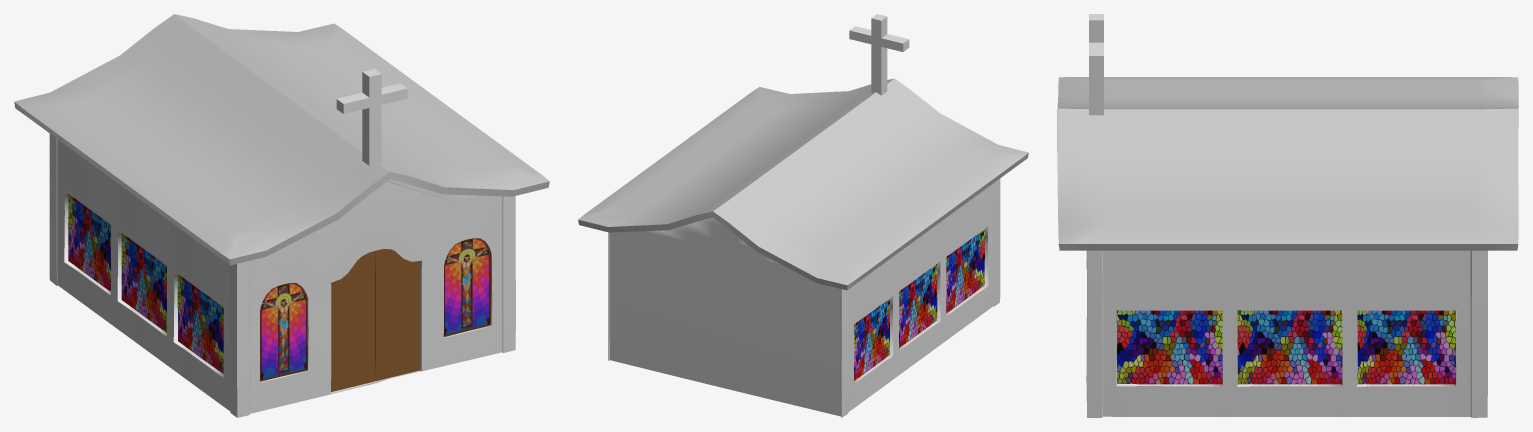
File: igreja.fbx
The picture shows the model from 3 angles, left to right: view 1: azimuth 30°, elevation 25°; view 2: azimuth 150°, elevation 25°; view 3: azimuth 270°, elevation 25°; orthographic projection. The views are drawn at different scales.
Visible parts, largest first — view 1: Cube, Cube.001; view 2: Cube, Cube.001; view 3: Cube, Cube.001.
Boxes of the visible parts, x1,y1,x2,y2 form: Cube: [14, 14, 549, 417]; Cube.001: [336, 69, 407, 165]; Cube: [578, 78, 1028, 417]; Cube.001: [849, 14, 909, 95]; Cube: [1057, 77, 1518, 417]; Cube.001: [1089, 14, 1103, 115].
Bounding box in the file's own units: 1602 × 1468 × 1869.
